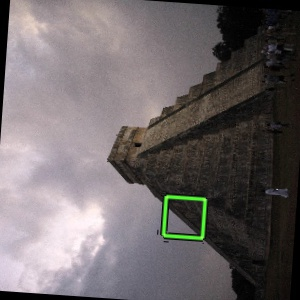square: (158, 191, 209, 243)
